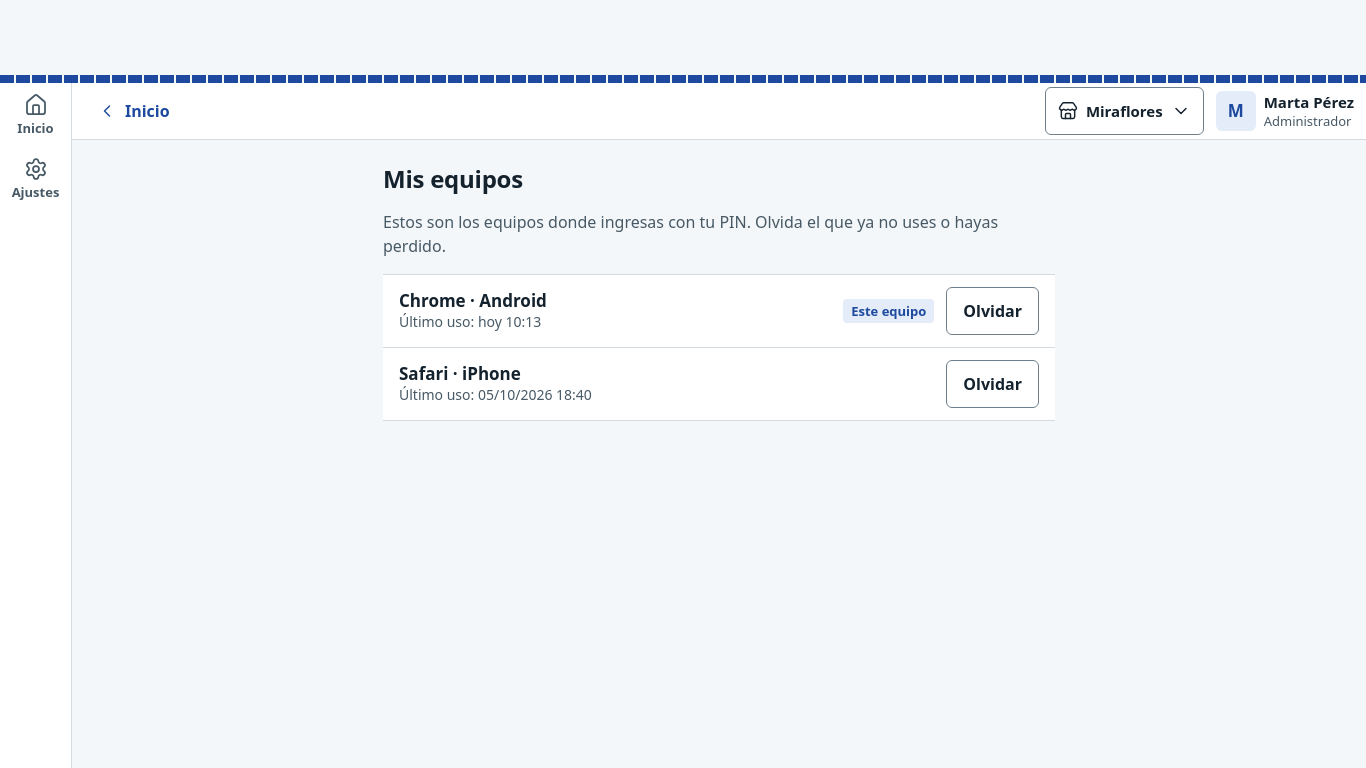
Scenario: Mis equipos (criterio 97) › olvida otro equipo con confirmación y vuelve a leer la lista
(page scrolled)
Expected: the list named "Mis equipos" is shown, [383,274,1055,421]
Click the button named "Olvidar Safari · iPhone": click(993, 384) [946,360,1039,408]
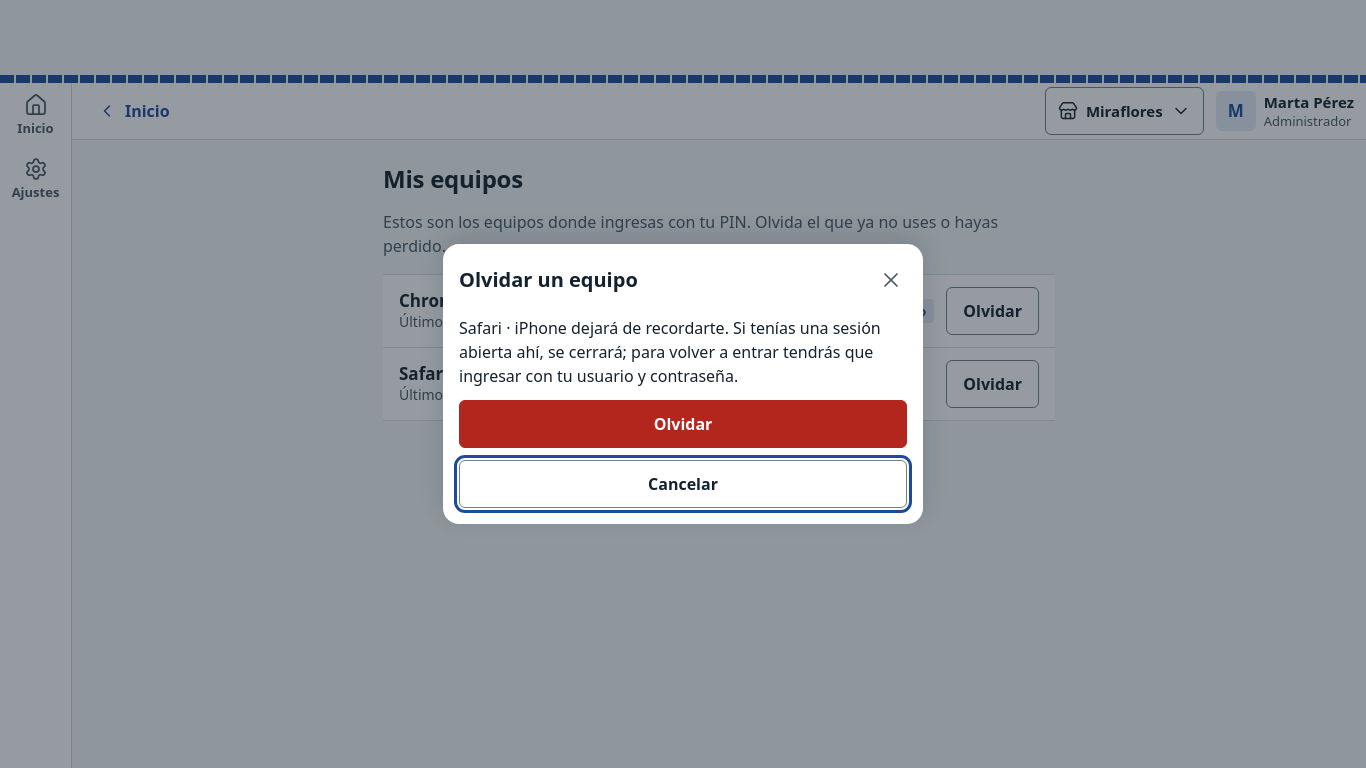
Expected: the dialog "Olvidar un equipo" shows "Safari · iPhone dejará de recordarte", [459,317,881,387]
Click the button "Olvidar": click(683, 424) [459,400,907,448]
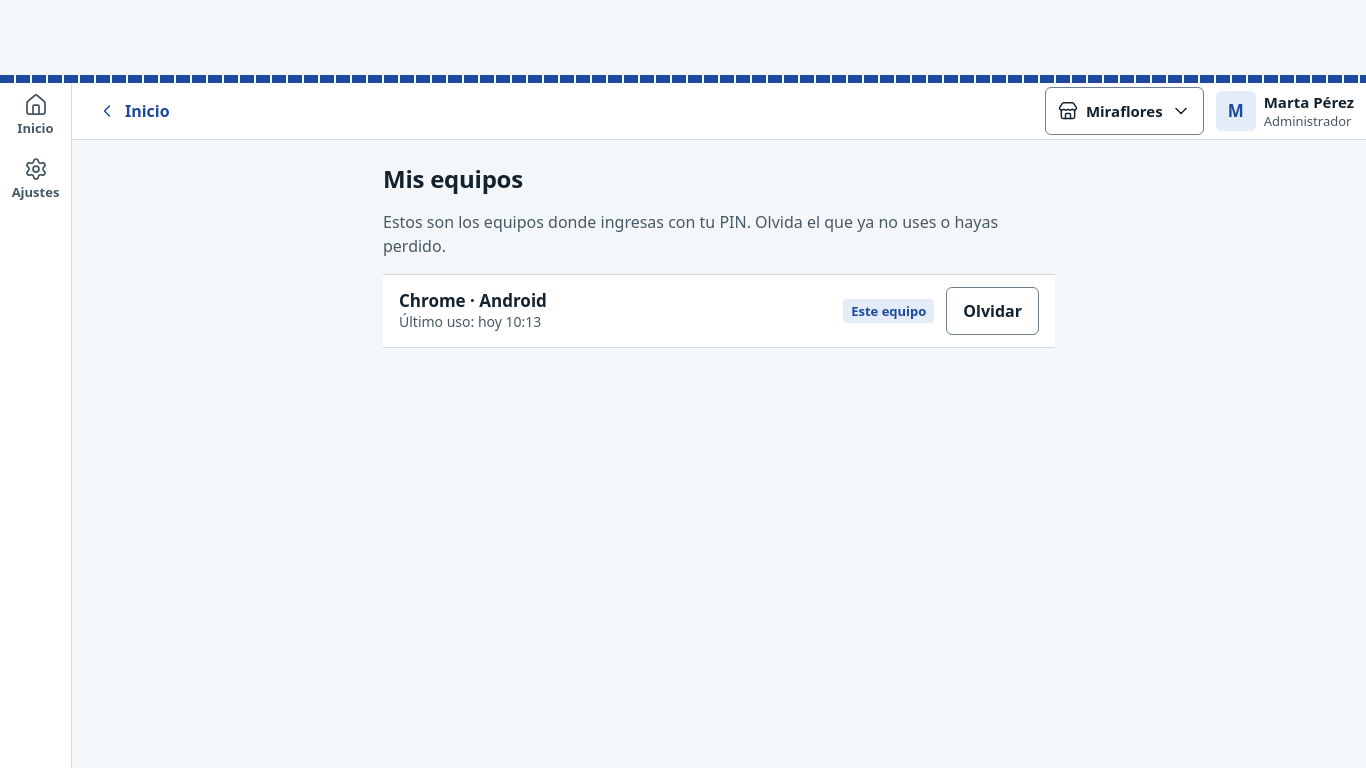
Expected: the number of list items is 1, [383,275,1055,347]
